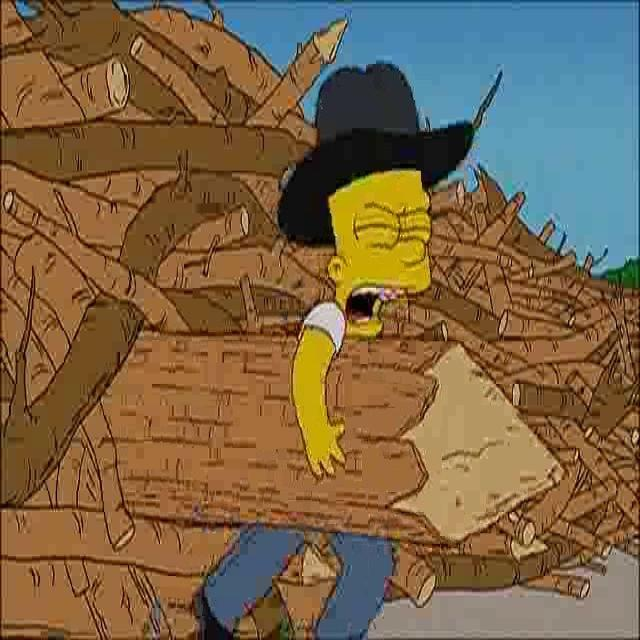Bart Simpson: (326, 163, 436, 341)
